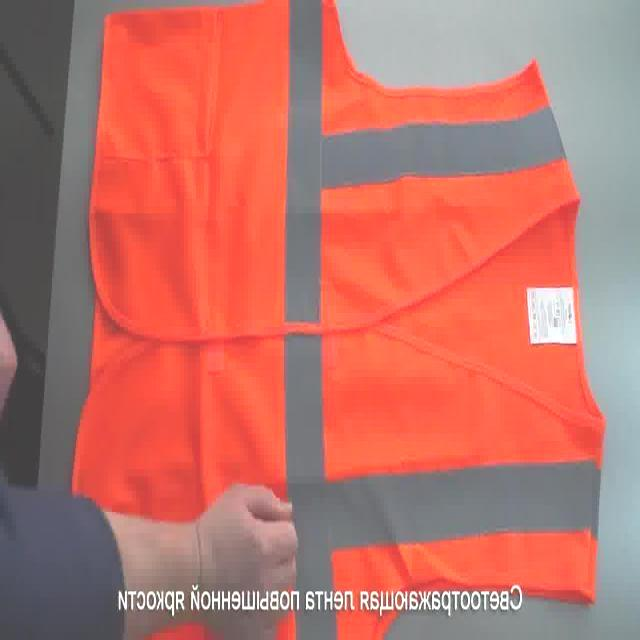vest: (68, 0, 607, 640)
